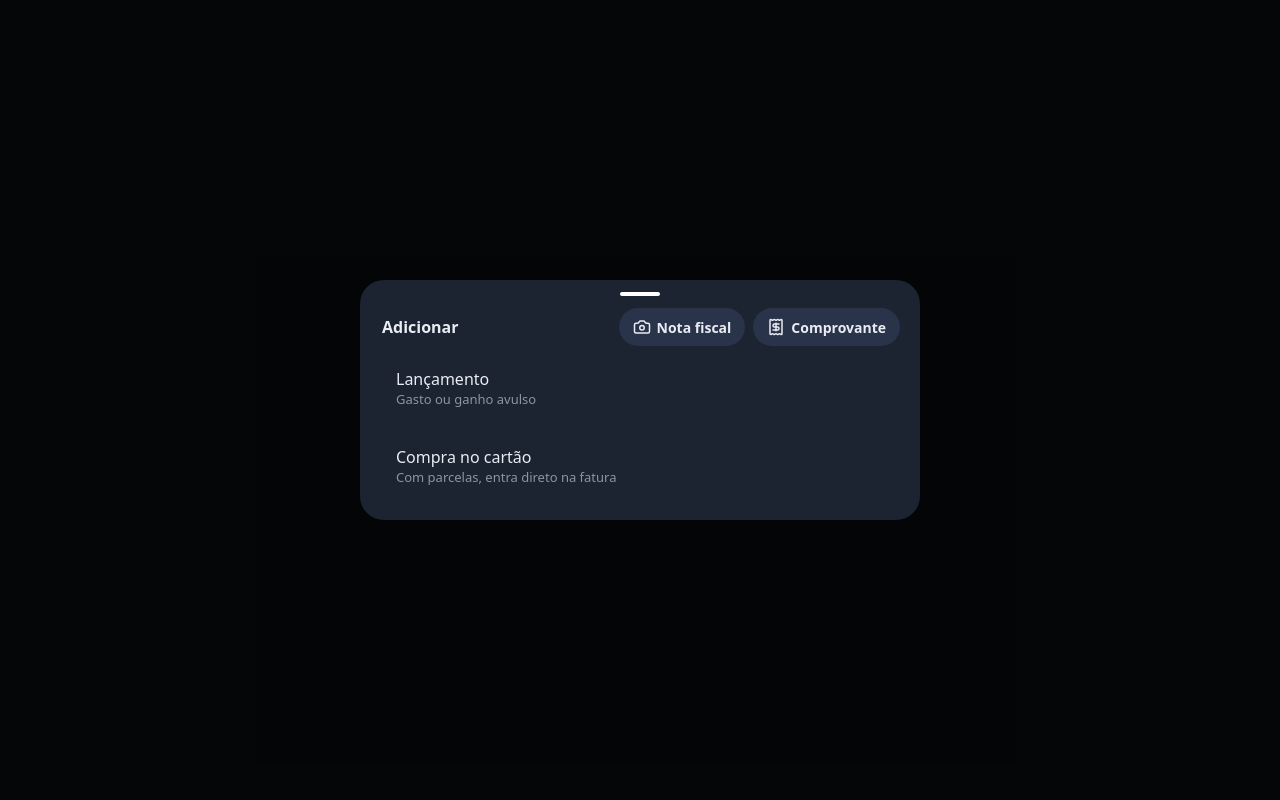
Test: com a casa no topo e sem cartão, pede uma box e não leva a Ajustes
Click the text "Compra no cartão".
click(464, 457)  # box [396,446,532,468]
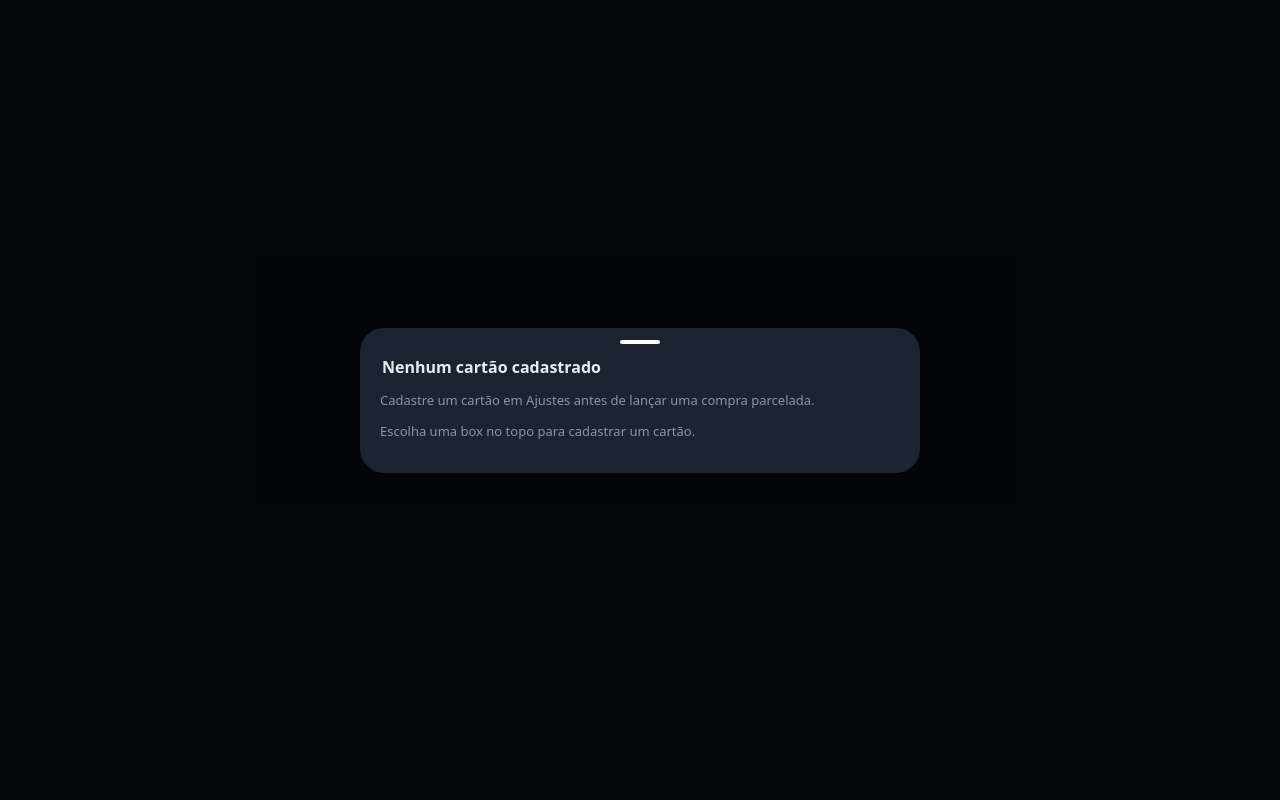
Now the heading "Nenhum cartão cadastrado" is shown, box [382,356,601,378]
Now the text "Escolha uma box no topo para cadastrar um cartão." is shown, box [380,422,695,440]
